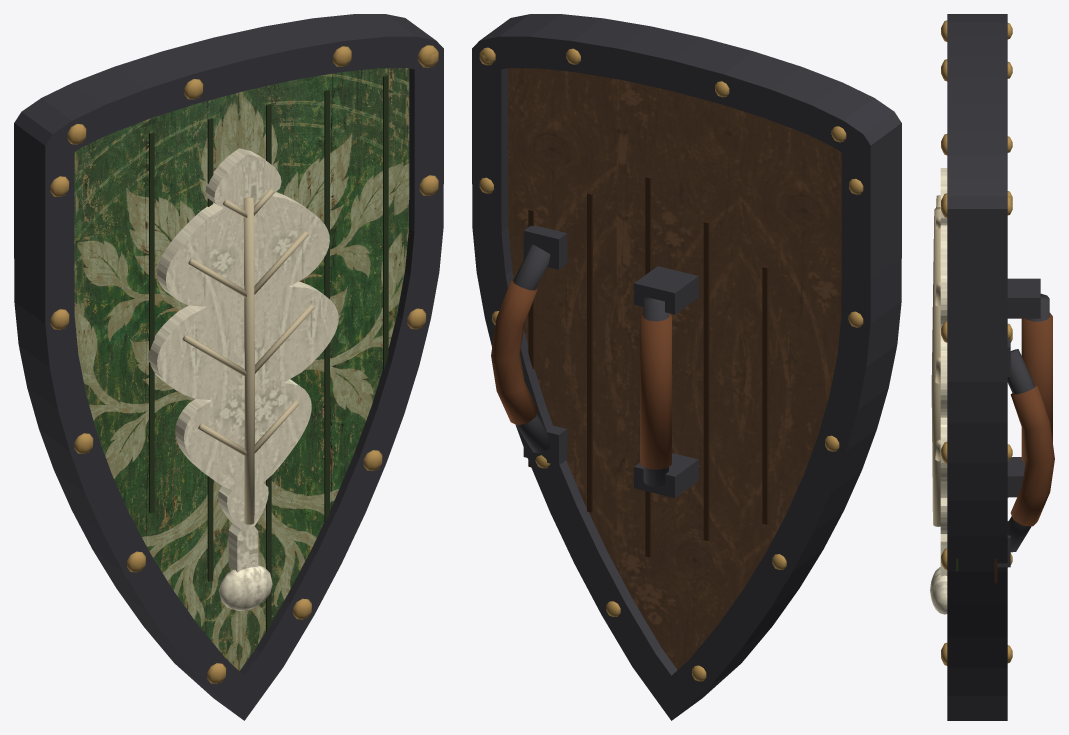
Rendered from mossward_shield.glb.
3 views of the same model, side by side, from view 1: azimuth 30°, elevation 25°; view 2: azimuth 150°, elevation 25°; view 3: azimuth 270°, elevation 25° (orthographic). The views are drawn at different scales.
Visible parts, largest first — view 1: MosswardShield; view 2: MosswardShield; view 3: MosswardShield.
Part boxes in pixels (x1,y1,x2,y2): MosswardShield: (14,14,443,720); MosswardShield: (472,14,901,720); MosswardShield: (930,14,1054,720).
Bounding box in the file's own units: 0.6547 × 1.04 × 0.1828.
10 materials, 3 textured.
